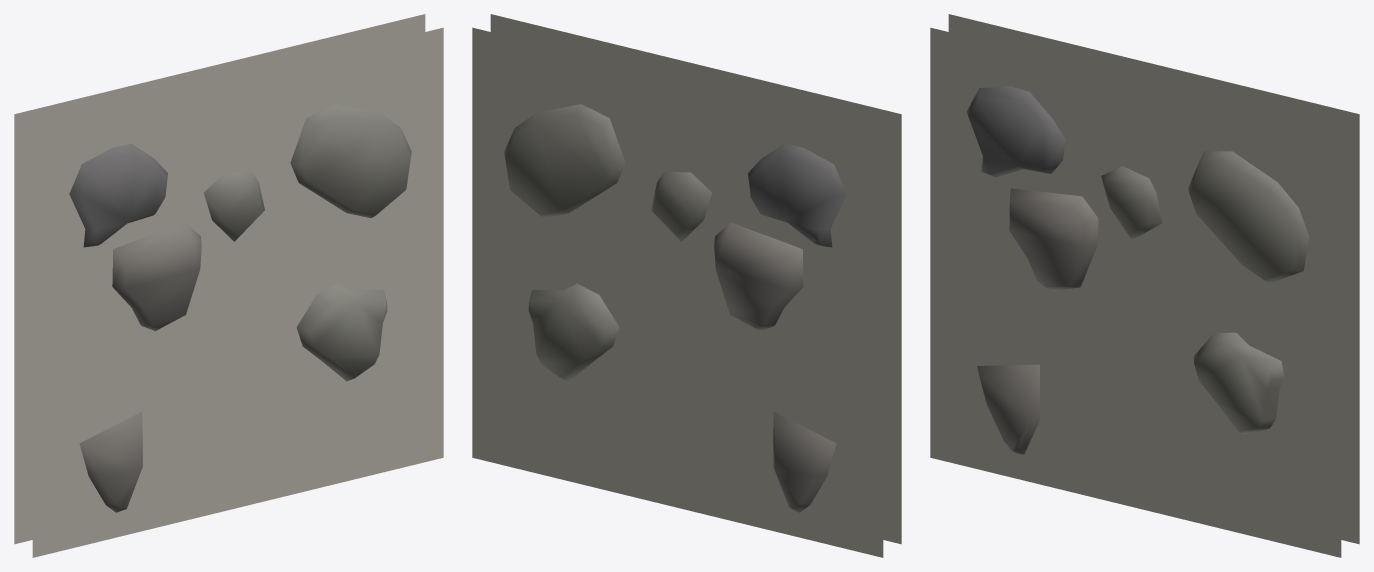
Rendered from rpgpp_ag_wall_04_3x3_c.fbx.
The picture shows the model from 3 angles, left to right: view 1: azimuth 30°, elevation 25°; view 2: azimuth 150°, elevation 25°; view 3: azimuth 330°, elevation 25°; orthographic projection.
Parts seen in each view (by area): view 1: rpgpp_ag_wall_04_3x3_c; view 2: rpgpp_ag_wall_04_3x3_c; view 3: rpgpp_ag_wall_04_3x3_c.
Part boxes in pixels (x1,y1,x2,y2): rpgpp_ag_wall_04_3x3_c: (14, 14, 443, 557); rpgpp_ag_wall_04_3x3_c: (472, 14, 901, 557); rpgpp_ag_wall_04_3x3_c: (930, 14, 1359, 557).
Size of the model in its own units: 3 by 3 by 0.404.
